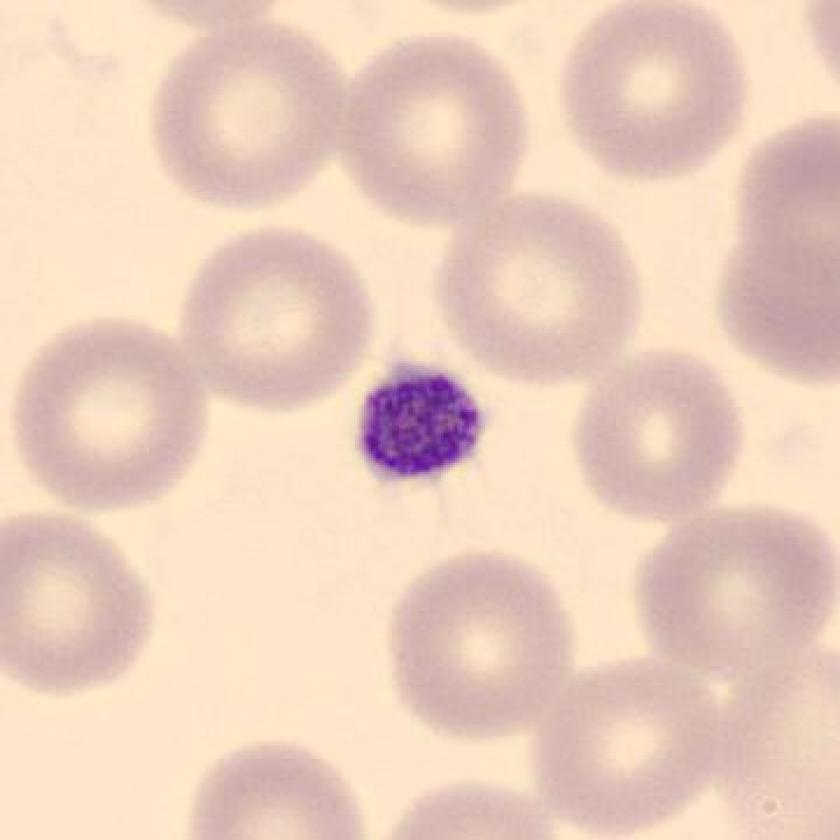platelets: (349, 351, 491, 503)
